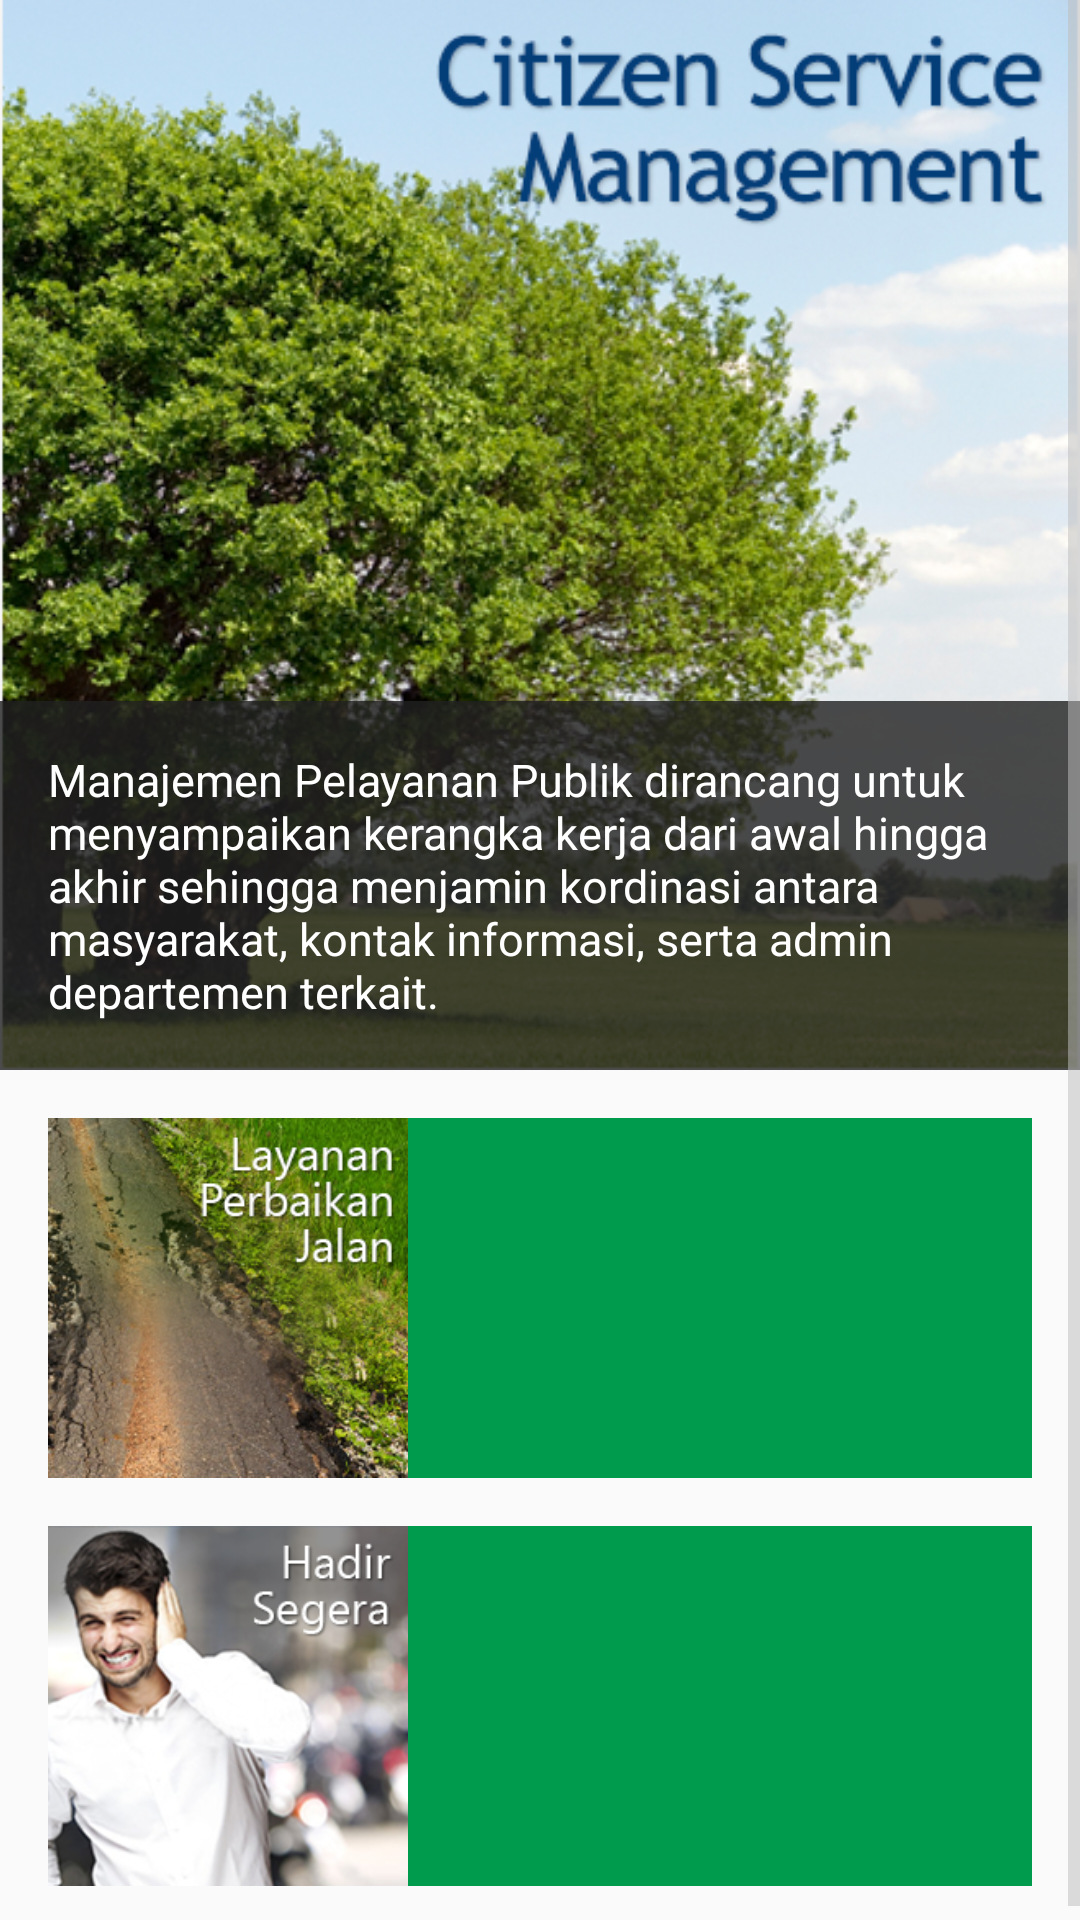

Icons on this 1080*1920 Android screen, each with the point to tap as [x,y]:
noise complaint: [228,1706]
